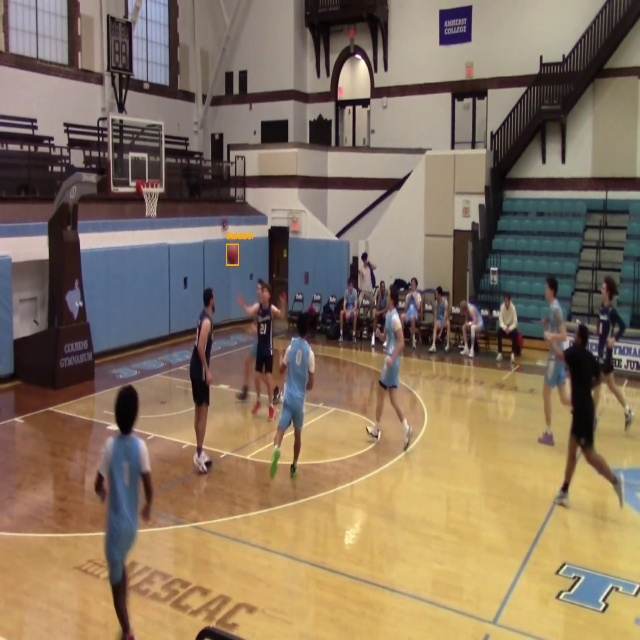Basketball: (227, 244, 239, 265)
